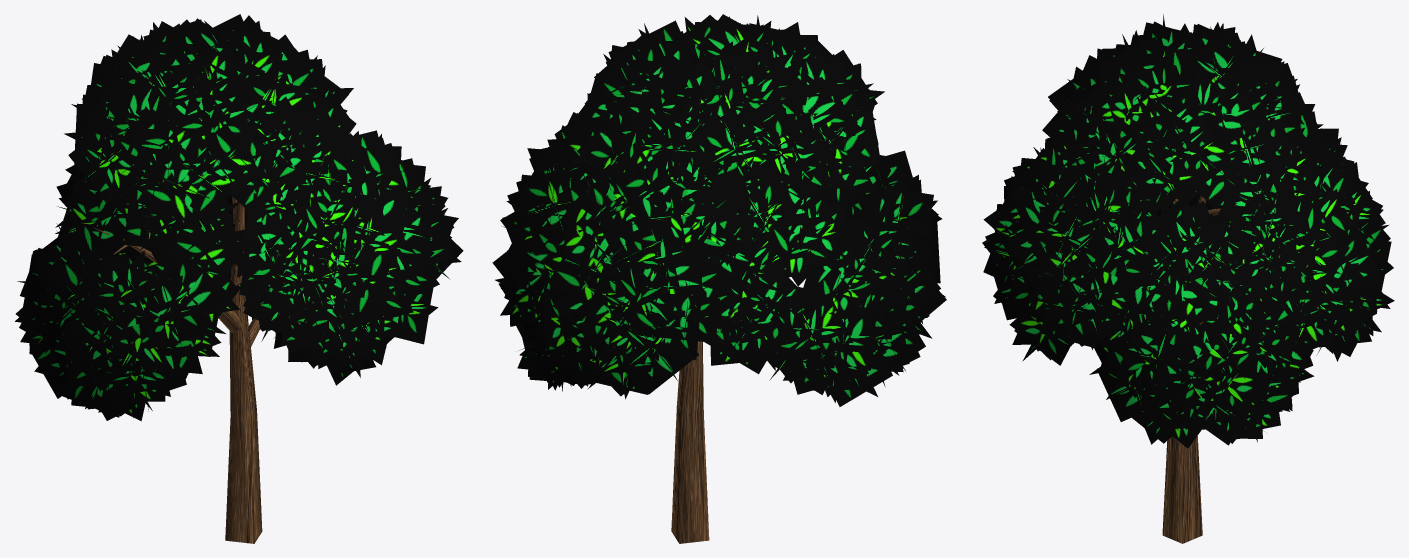
Rendered from oak.fbx.
3 views of the same model, side by side, from view 1: azimuth 30°, elevation 25°; view 2: azimuth 150°, elevation 25°; view 3: azimuth 270°, elevation 25° (orthographic). The views are drawn at different scales.
Visible parts, largest first — view 1: Plane.001, tree; view 2: Plane.001, tree; view 3: Plane.001, tree.
Boxes of the visible parts, x1=… form: Plane.001: x1=15, y1=14, x2=463, y2=421; tree: x1=93, y1=197, x2=262, y2=543; Plane.001: x1=492, y1=14, x2=946, y2=406; tree: x1=671, y1=341, x2=709, y2=543; Plane.001: x1=982, y1=14, x2=1394, y2=448; tree: x1=1162, y1=195, x2=1220, y2=543.
Size of the model in its own units: 7.77 by 10.15 by 7.96.
